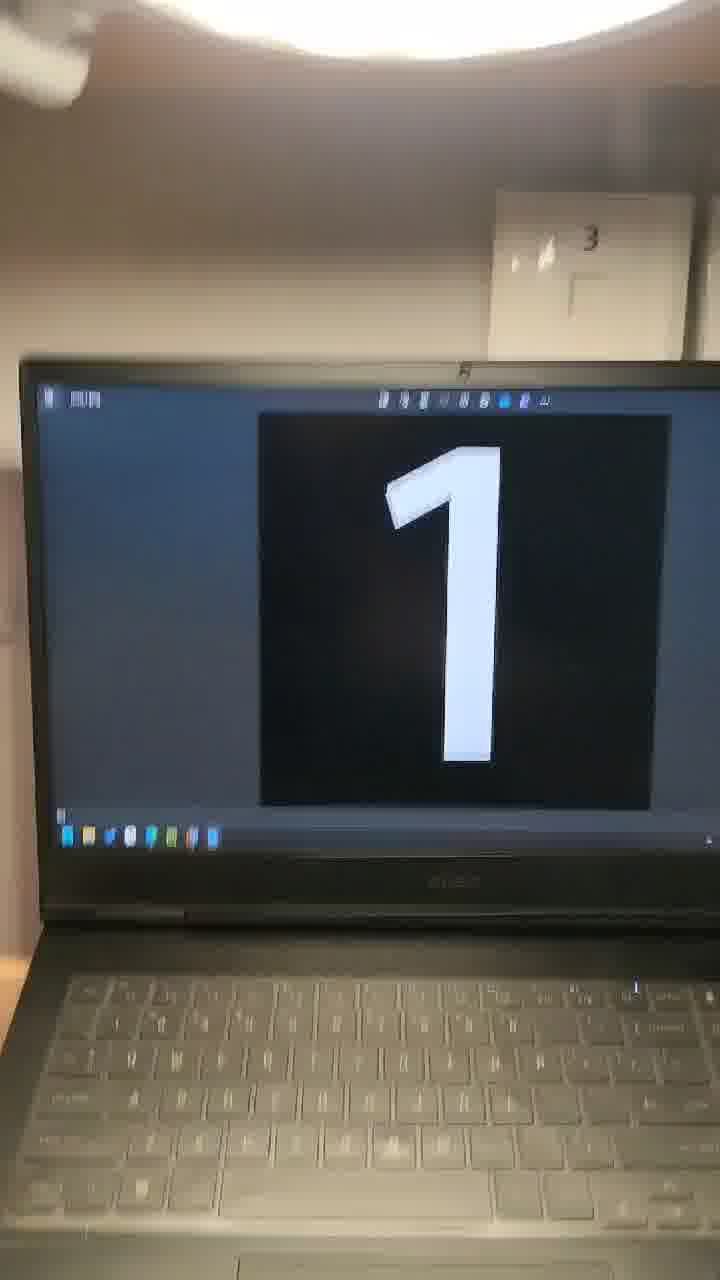one: (268, 371, 589, 825)
